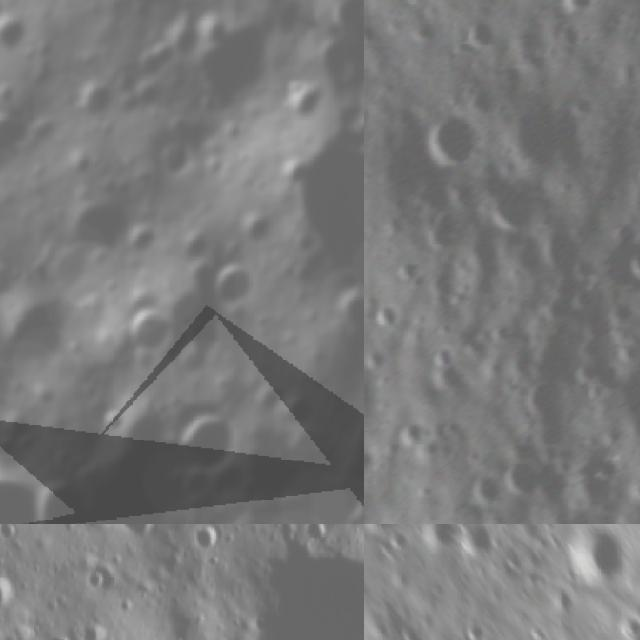crater: (238, 542, 364, 640), (34, 187, 130, 300), (162, 401, 244, 484), (557, 524, 631, 592), (502, 110, 577, 168), (418, 107, 482, 171), (166, 313, 223, 382), (472, 176, 540, 233), (0, 449, 49, 524), (120, 300, 174, 355), (209, 254, 258, 312), (144, 134, 200, 181), (278, 67, 328, 119), (325, 280, 364, 345), (502, 452, 548, 502), (0, 97, 31, 165), (573, 358, 618, 400), (276, 153, 316, 196), (542, 228, 580, 273), (92, 398, 130, 442), (456, 524, 498, 563), (524, 380, 564, 418), (0, 249, 25, 309), (0, 559, 25, 619), (419, 524, 462, 558), (463, 14, 500, 52), (371, 300, 411, 332), (0, 12, 31, 52), (407, 16, 441, 44), (429, 339, 457, 372), (552, 22, 586, 49), (471, 474, 502, 503), (393, 254, 421, 286), (364, 343, 393, 372), (399, 419, 428, 447), (456, 618, 490, 640), (296, 524, 333, 542), (626, 240, 640, 287), (544, 295, 568, 322), (616, 613, 640, 640), (364, 524, 402, 541), (364, 439, 381, 472), (459, 77, 483, 100), (0, 524, 26, 545), (364, 17, 380, 45), (555, 0, 595, 11), (635, 464, 640, 501)
